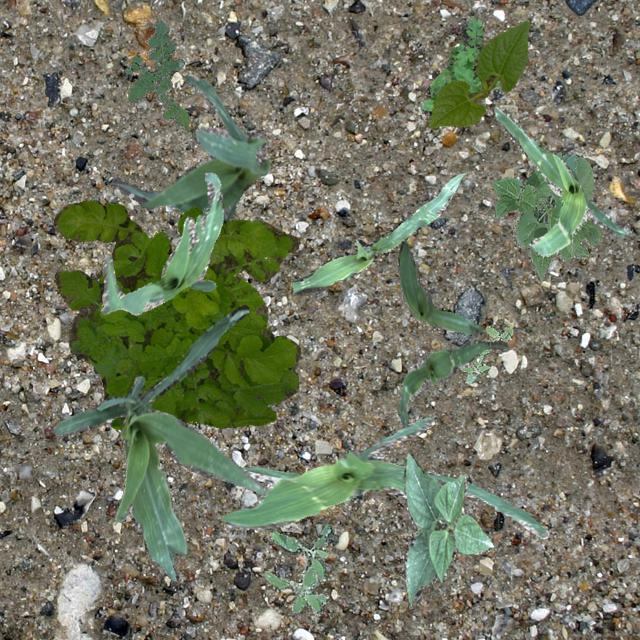crop: (52, 304, 268, 580), (220, 416, 548, 538), (110, 72, 272, 220), (292, 172, 464, 294), (494, 107, 630, 256), (100, 170, 222, 314), (490, 150, 600, 280), (402, 452, 492, 604), (428, 19, 530, 128), (398, 338, 508, 426), (396, 240, 481, 336)
weed: (53, 198, 300, 428), (419, 12, 498, 114), (124, 19, 188, 132), (260, 524, 332, 614), (460, 324, 512, 382)
